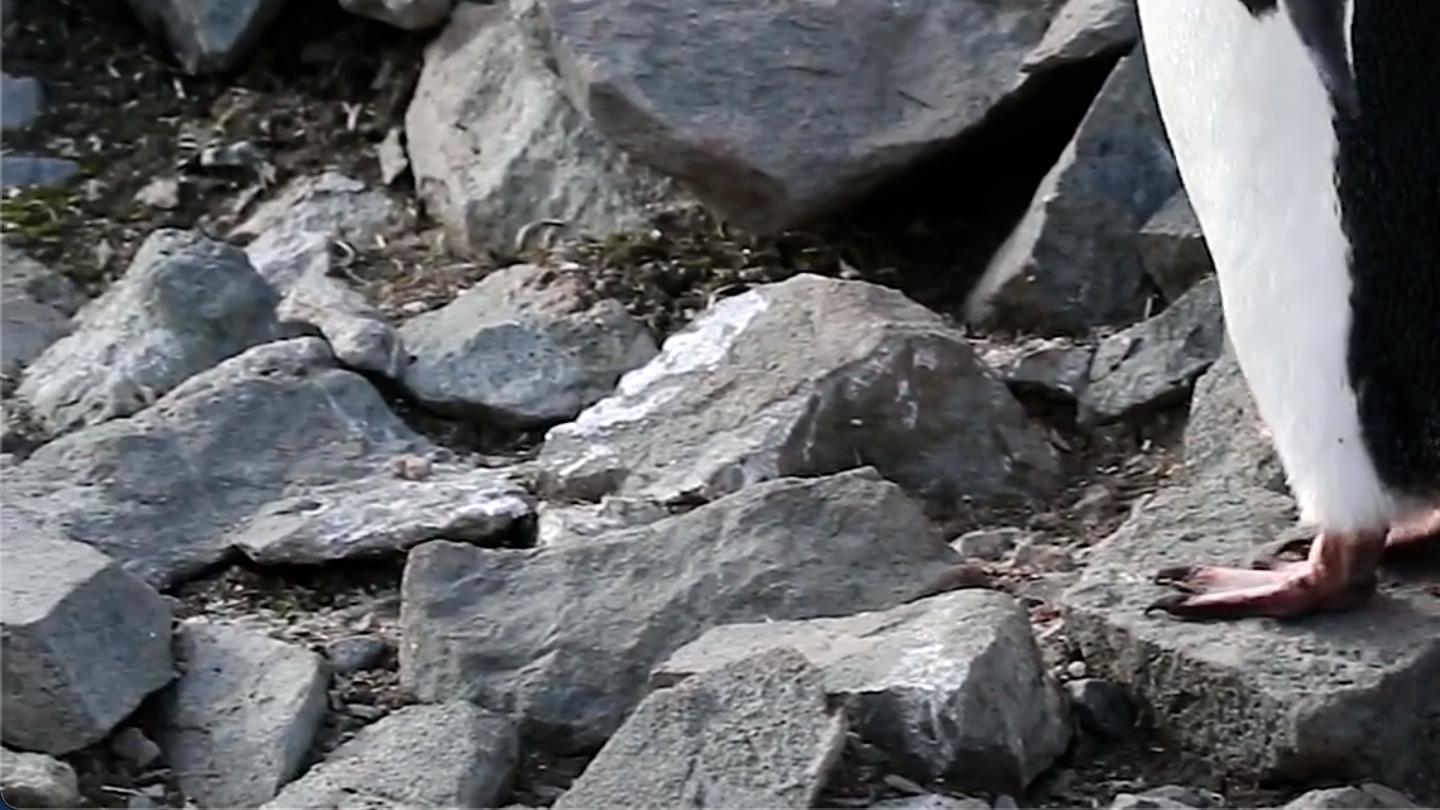Chinstrap Penguin: (881, 0, 1440, 614)
